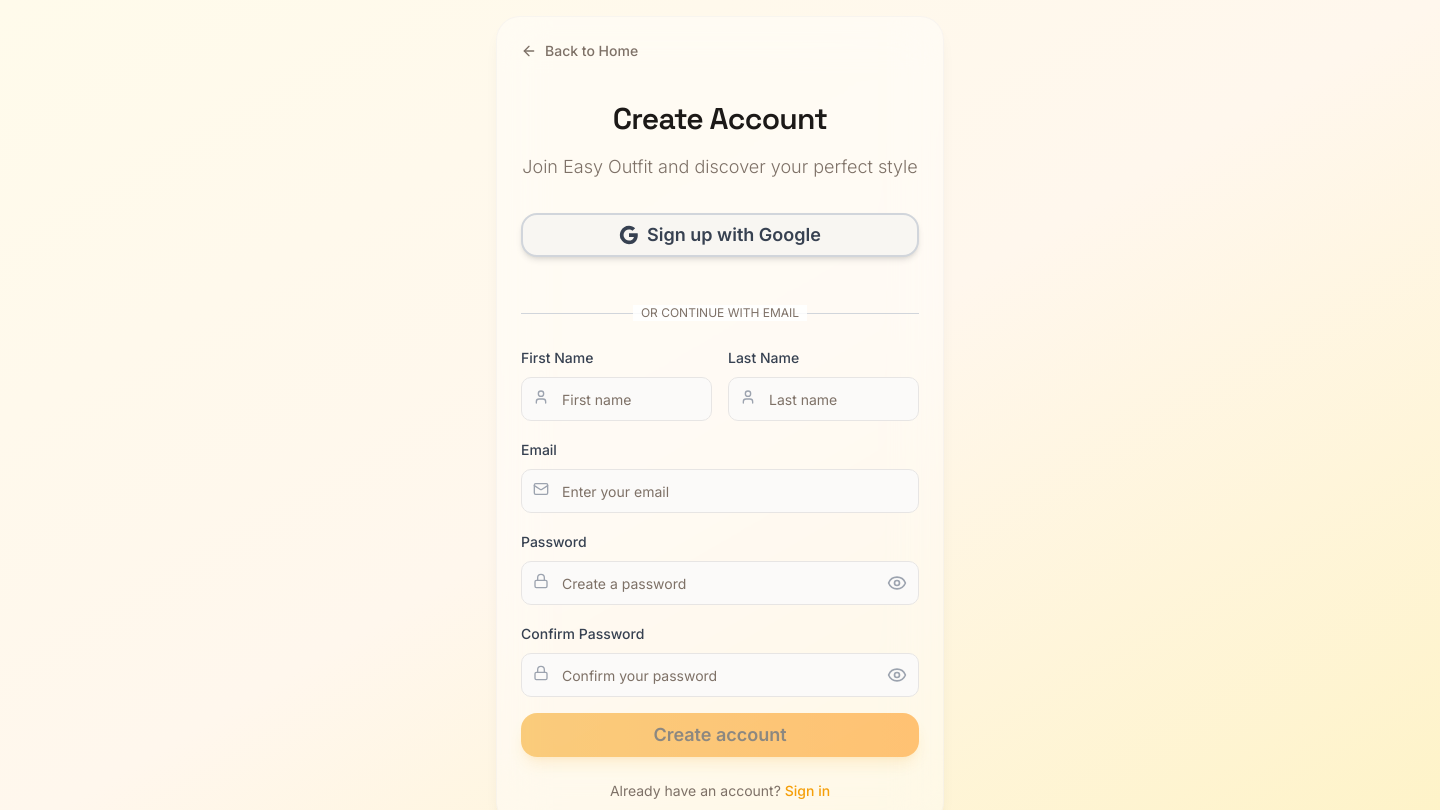
does not offer another signed-in account the first account’s recovery after refresh
Type "Alex" into the field labelled "First Name" at (616, 399), box [521,377,712,421]
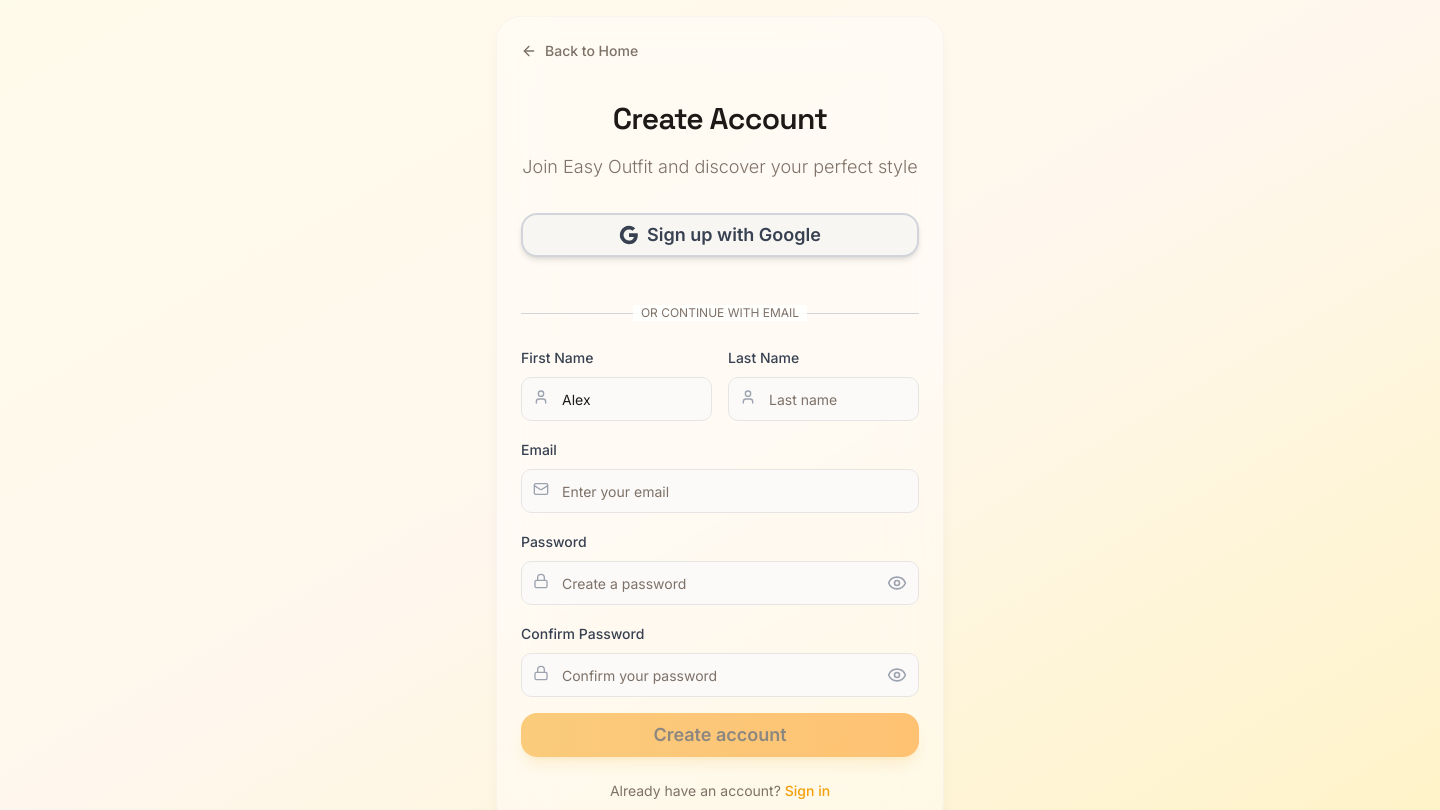
Type "Example" into the field labelled "Last Name" at (824, 399), box [728,377,919,421]
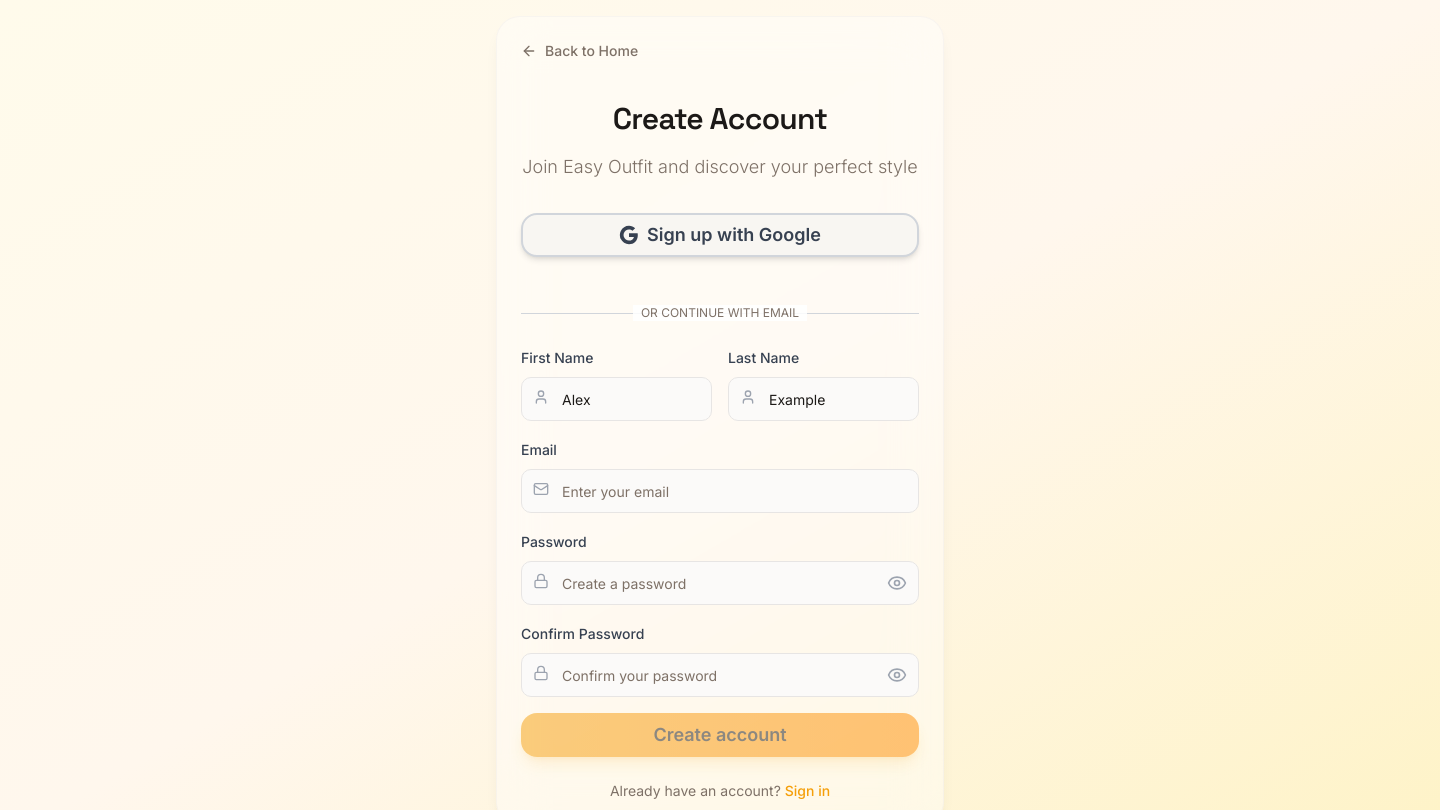
Type "alex@example.test" into the field labelled "Email" at (720, 491), box [521,469,919,513]
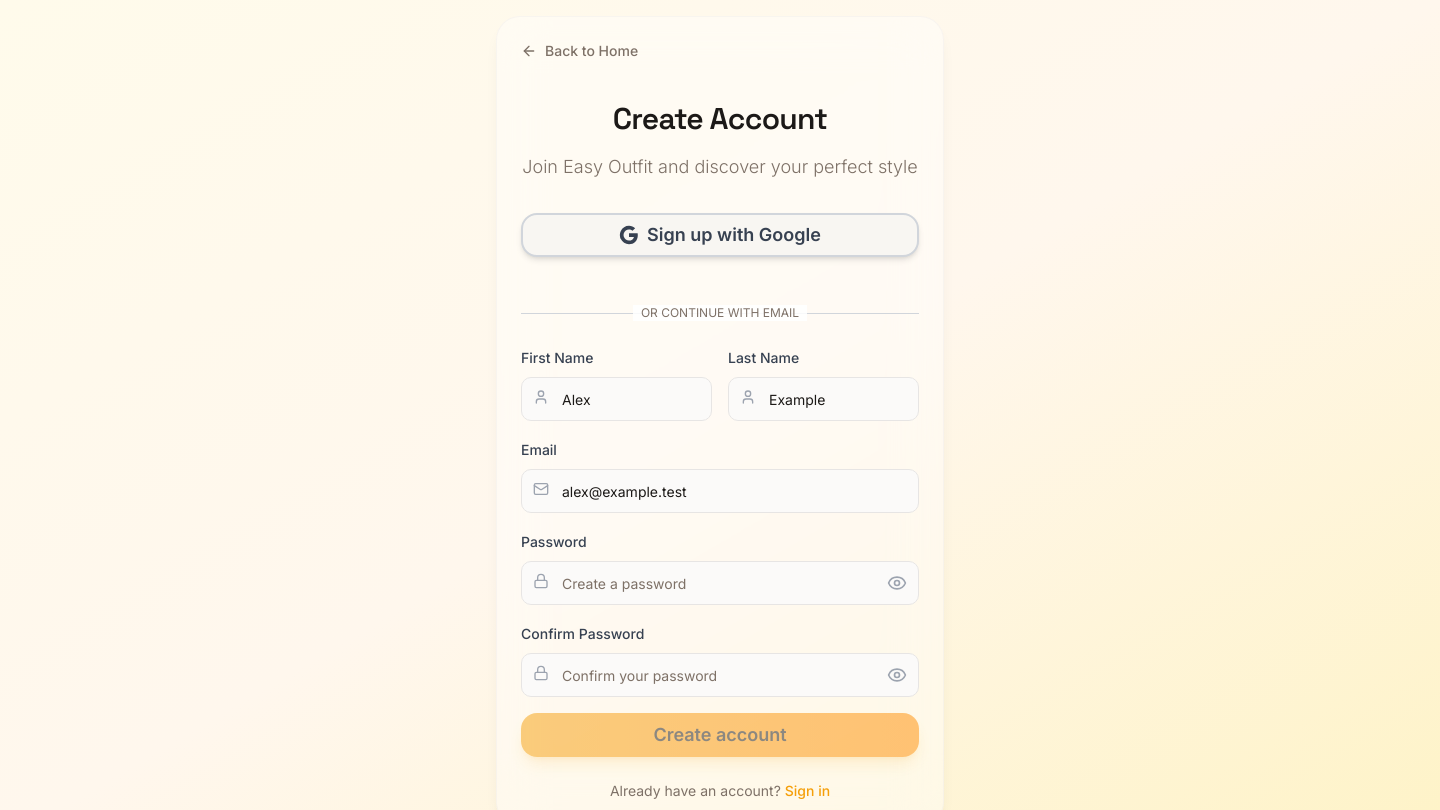
Type "test-password" into the password field labelled "Password" at (720, 583), box [521,561,919,605]
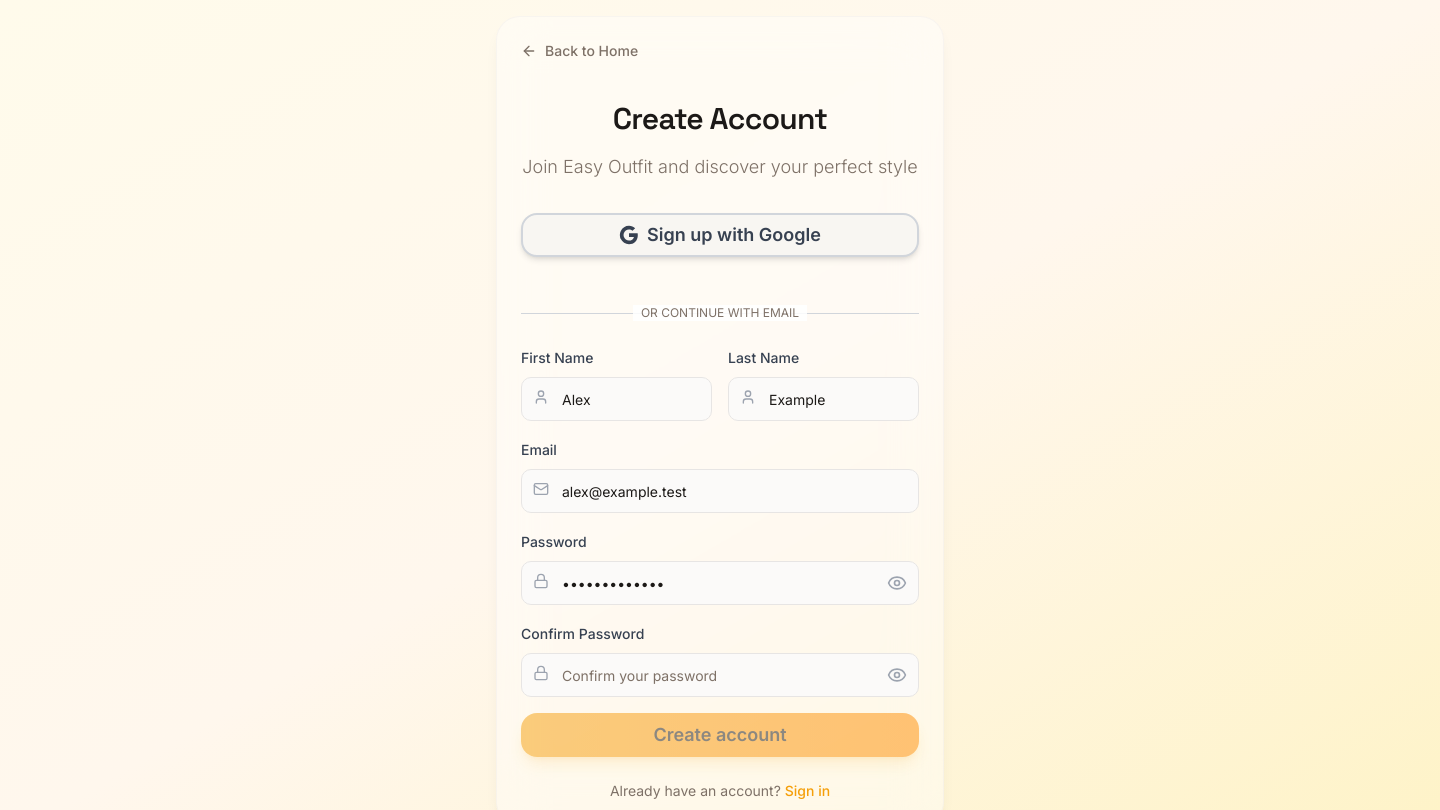
Type "test-password" into the password field labelled "Confirm Password" at (720, 675), box [521,653,919,697]
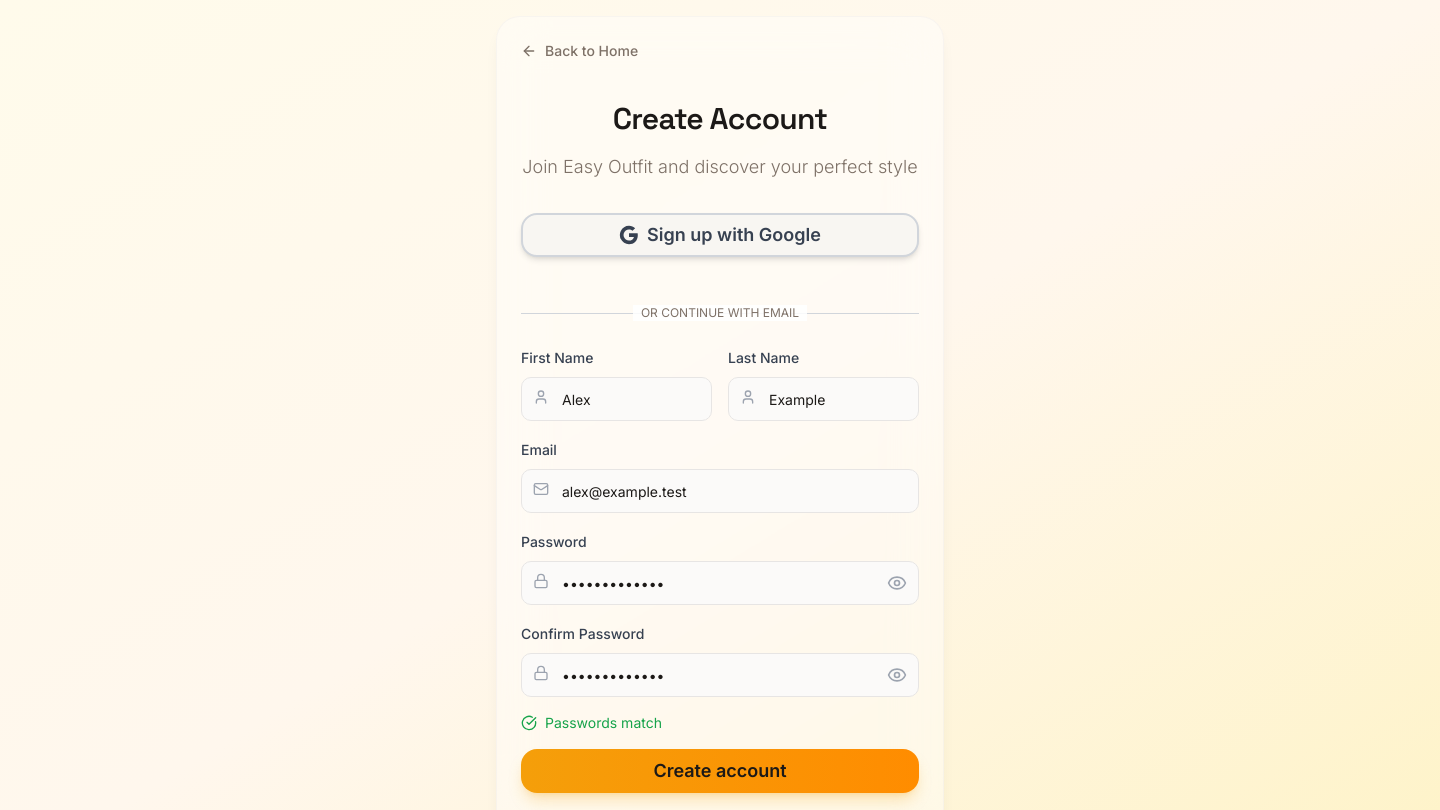
Click the button "Create account" at (720, 771), box [521,749,919,793]
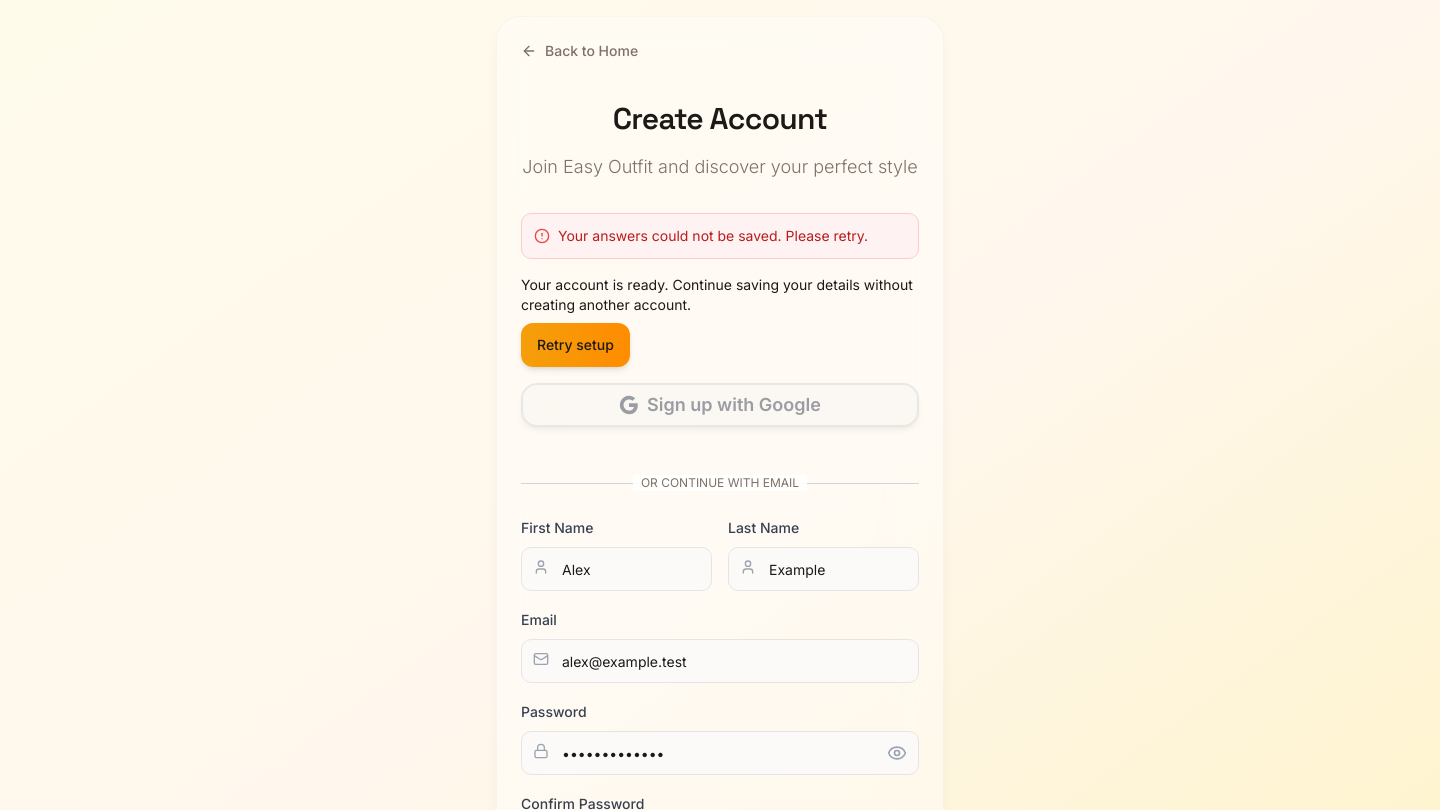
Expected: the text "Your answers could not be saved. Please retry." is shown, [558,226,868,246]
